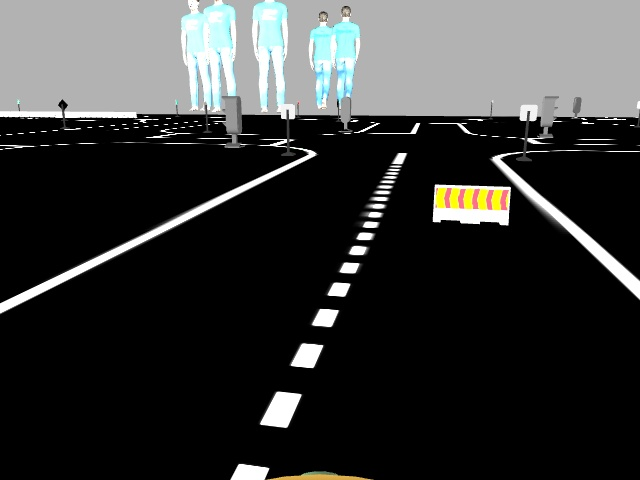ClosedRoadStand: (434, 183, 508, 224)
